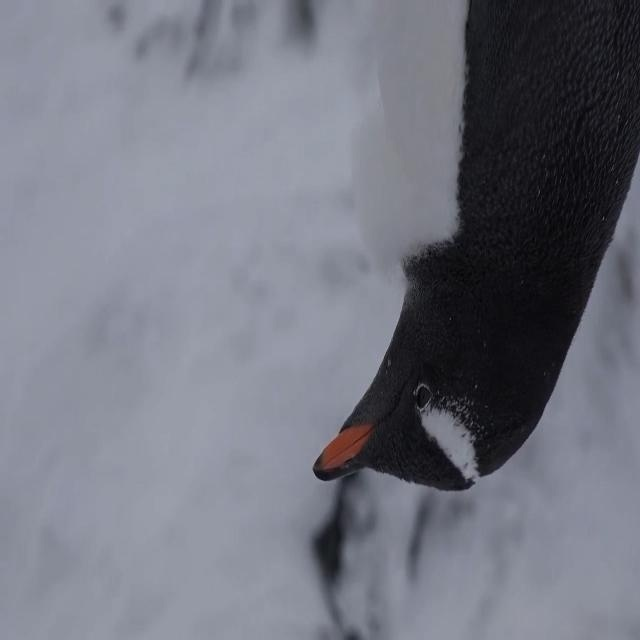penguin: (310, 3, 637, 494)
